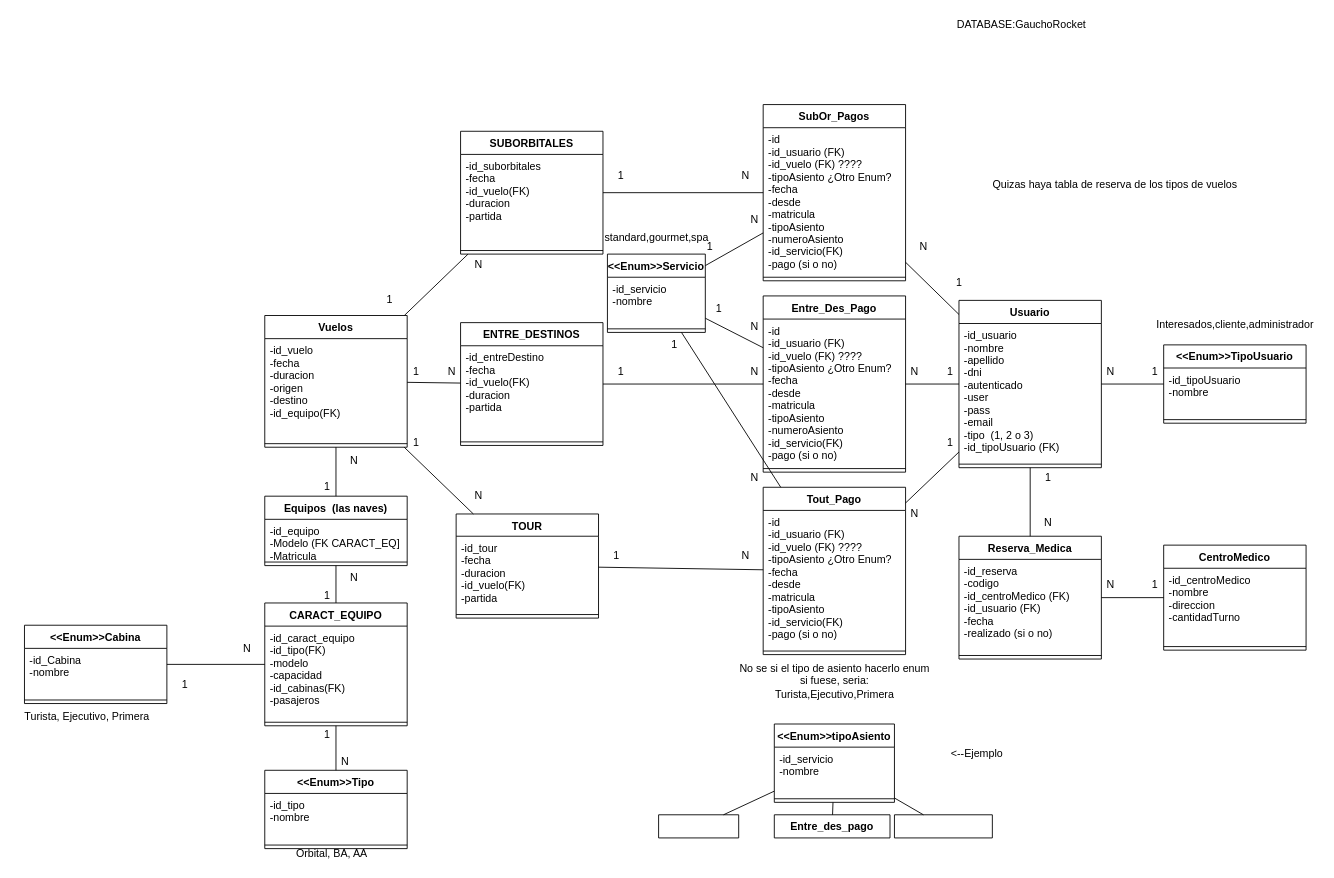
Some shapes in this 1334 by 878 pixel diagram are drawn without their labels. The shapes that lost their labels are listed below. From the top down, each one's centre as x and y in pixels, then its label:
the point at 698,826: Tour_Pago
the point at 943,826: SubOr_Pago
